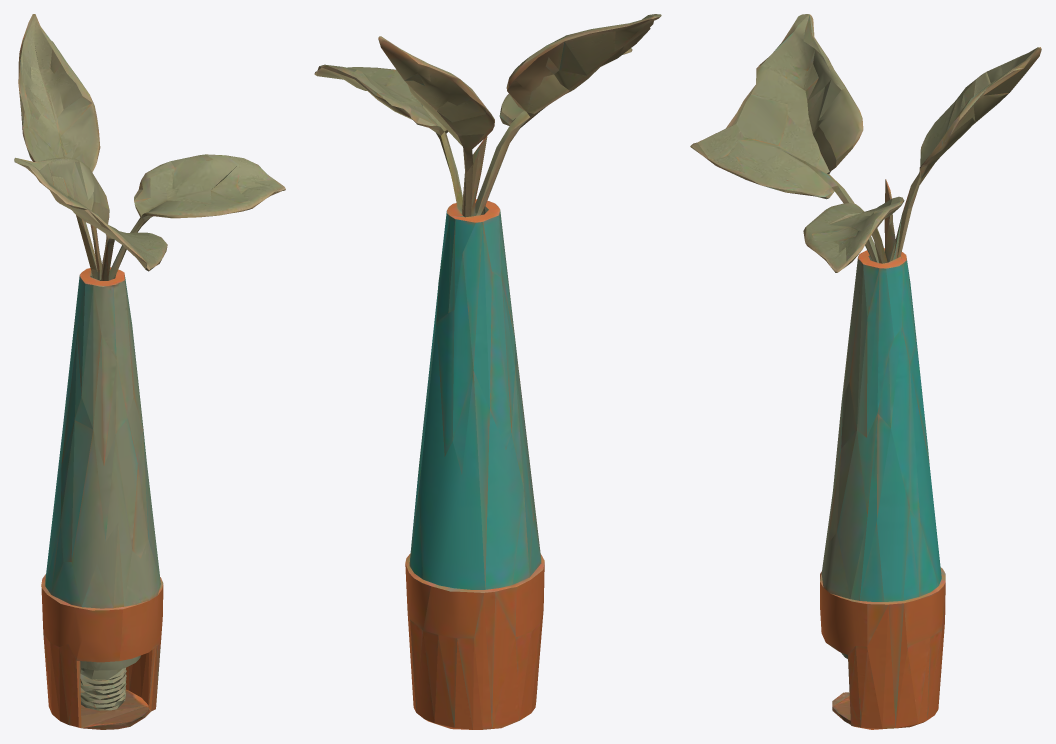
3 views of the same model, side by side, from view 1: azimuth 30°, elevation 25°; view 2: azimuth 150°, elevation 25°; view 3: azimuth 270°, elevation 25° (orthographic). The views are drawn at different scales.
Size of the model in its own units: 0.4676 by 1 by 0.4787.
1 material, 1 textured.
